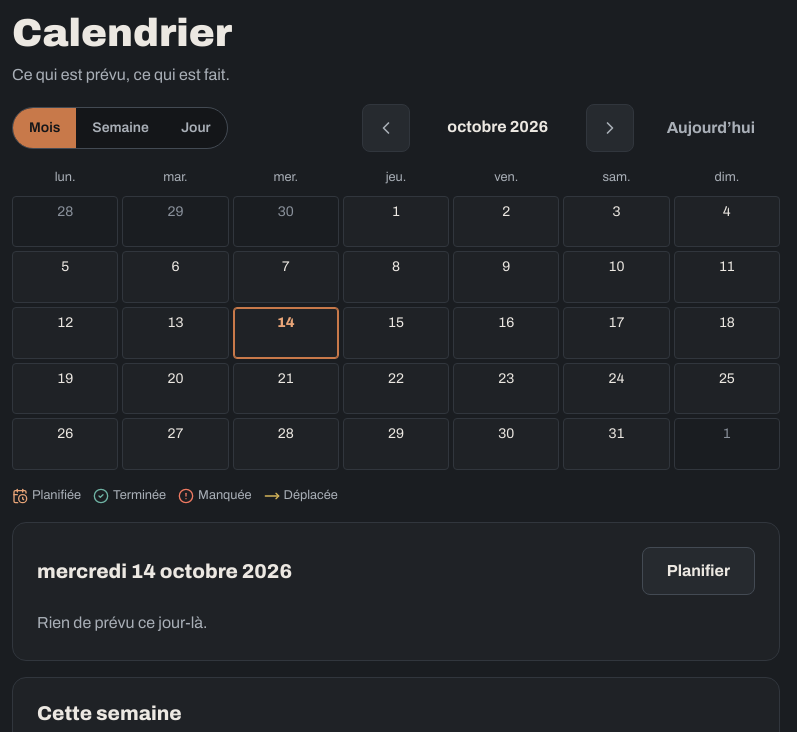
Test: CalendarView › passe en vue semaine puis en vue jour
The image size is (797, 732).
Expected: the 1st button with class "cell" is shown, x1=12 y1=196 x2=118 y2=247
Click the button with class "mode" showing "Semaine": (121, 128) x1=76 y1=108 x2=165 y2=148
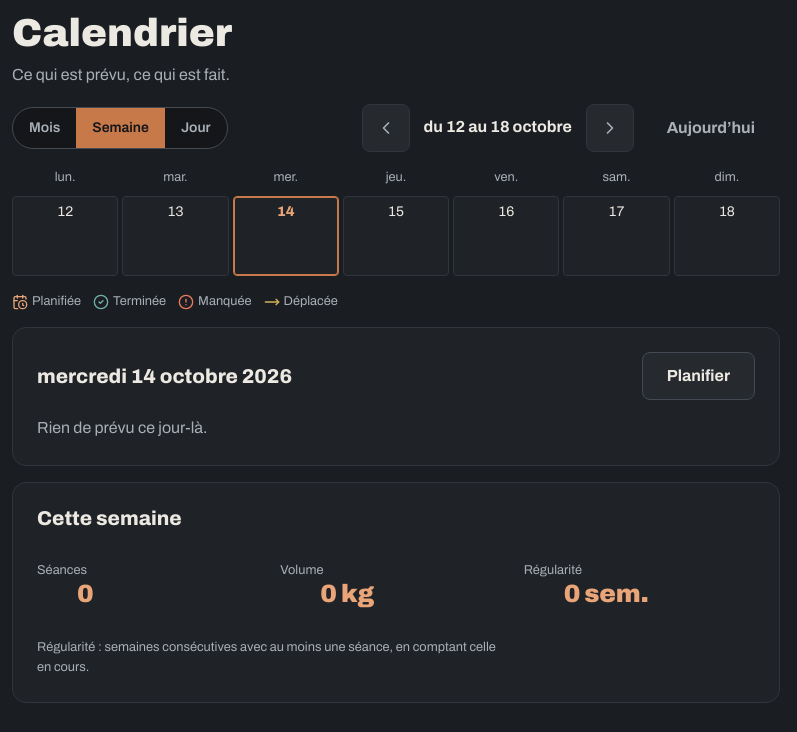
Expected: the number of buttons with class "cell" is 7
Expected: the text with class "calendar__range" reads "du 12 au 18 octobre", x1=424 y1=118 x2=572 y2=135
Click the button with class "mode" showing "Jour": (196, 128) x1=165 y1=108 x2=227 y2=148
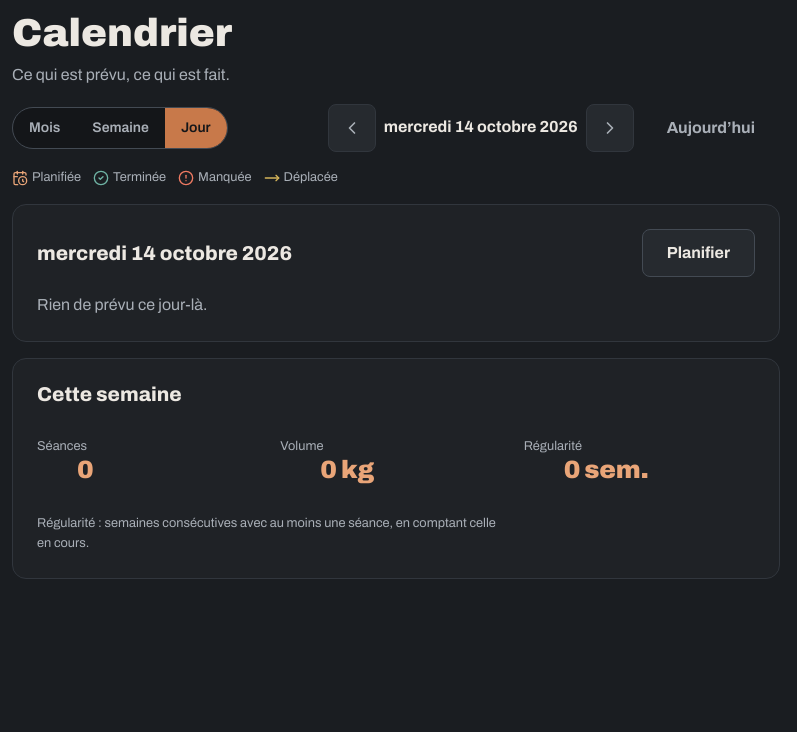
Expected: the text with class "calendar__range" reads "mercredi 14 octobre 2026", x1=384 y1=118 x2=578 y2=135
